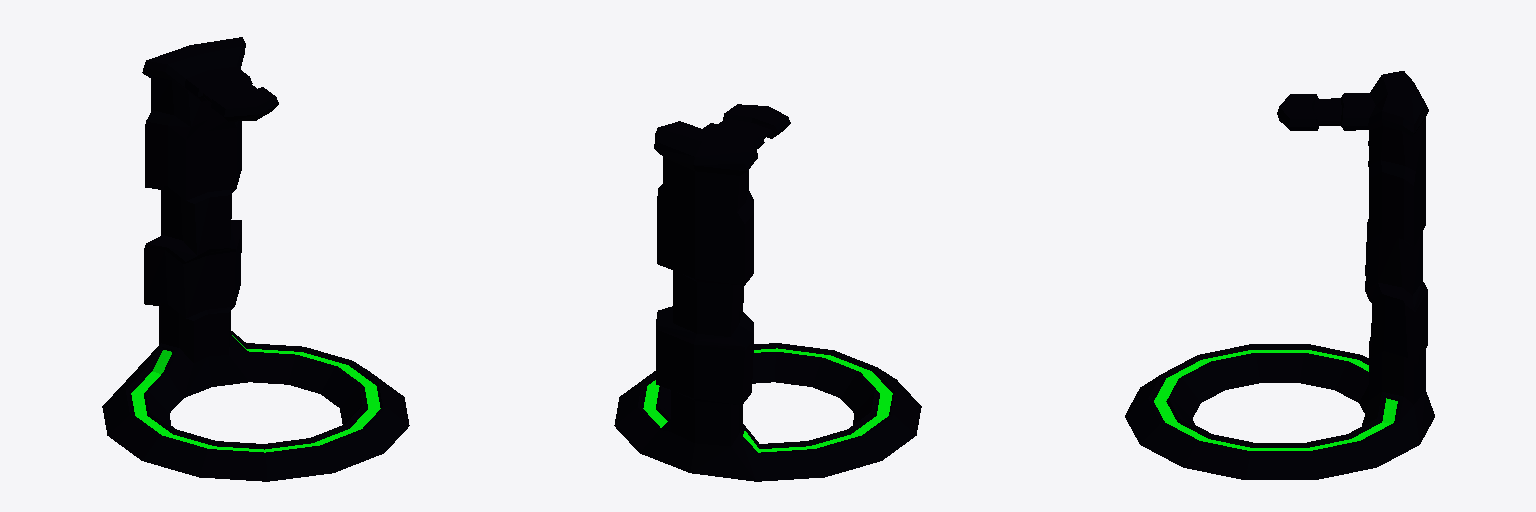
The model's file is VitaPod.obj.
The picture shows the model from 3 angles: view 1: azimuth 30°, elevation 25°; view 2: azimuth 150°, elevation 25°; view 3: azimuth 270°, elevation 25°; orthographic projection.
Visible parts, largest first — view 1: Circle; view 2: Circle; view 3: Circle.
Boxes of the visible parts, x1=… form: Circle: x1=102, y1=37, x2=409, y2=481; Circle: x1=614, y1=104, x2=921, y2=481; Circle: x1=1125, y1=71, x2=1434, y2=479.
Bounding box in the file's own units: 2.3 × 2.73 × 2.36.